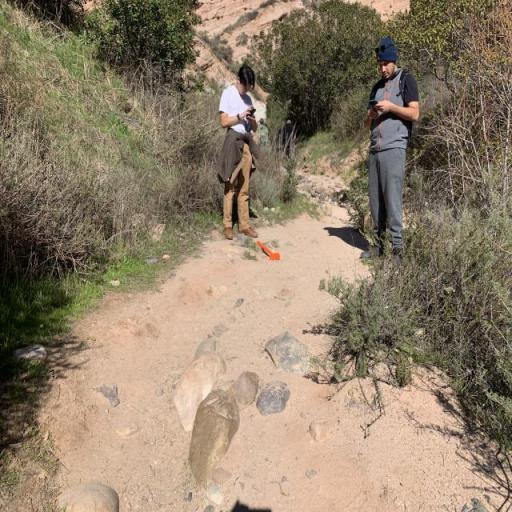mallet: (256, 240, 280, 260)
